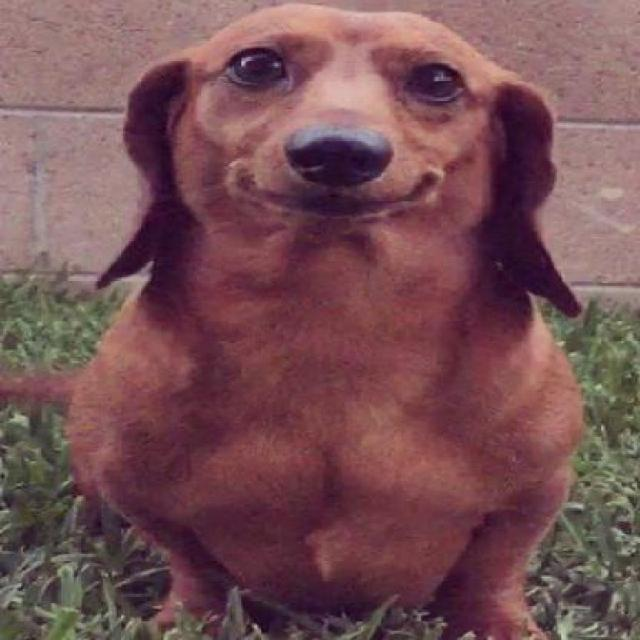Dog: (57, 6, 594, 639)
